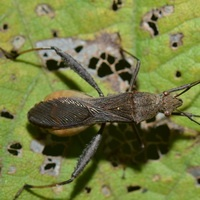insect: (13, 46, 199, 199), (140, 5, 173, 36)
